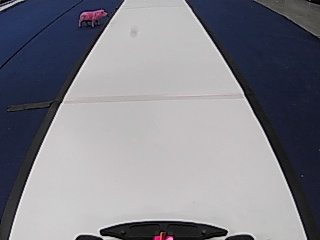pig: (75, 7, 108, 28)
